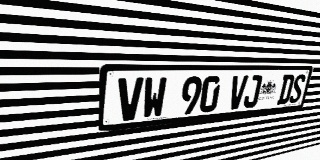0: (199, 76, 221, 113)
9: (179, 76, 203, 115)
D: (276, 74, 295, 105)
J: (242, 75, 263, 108)
S: (288, 74, 306, 103)
V: (117, 77, 144, 122), (227, 75, 248, 110)
W: (142, 77, 167, 119)
